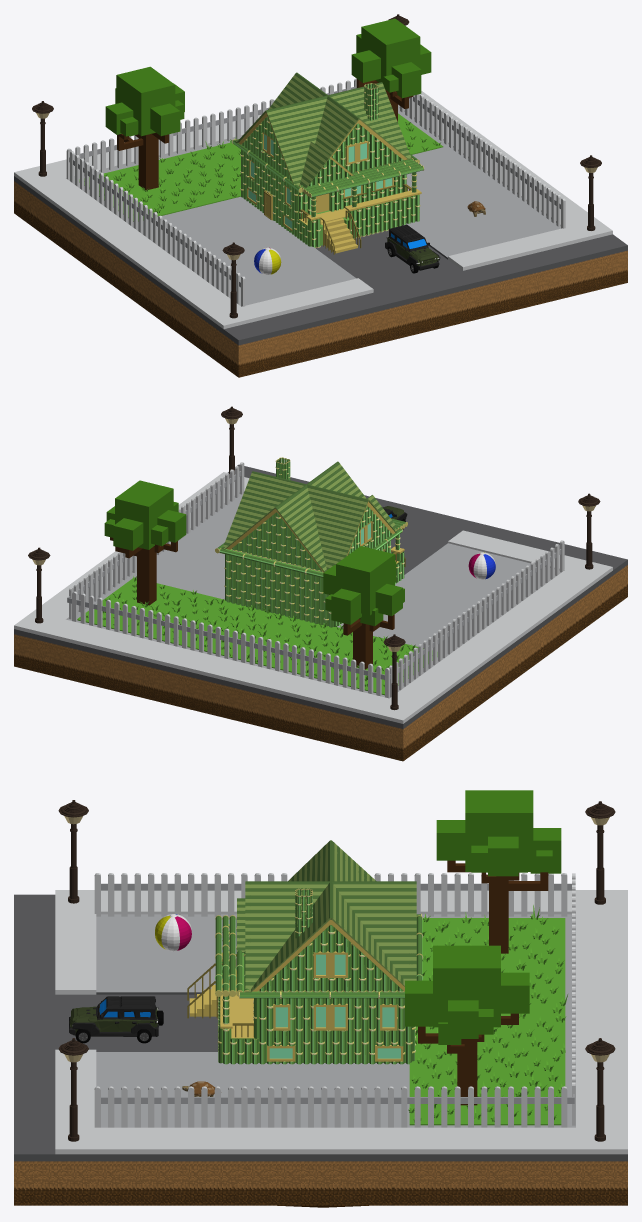
The picture shows the model from 3 angles, top to bottom: view 1: azimuth 30°, elevation 25°; view 2: azimuth 150°, elevation 25°; view 3: azimuth 270°, elevation 25°; orthographic projection. The views are drawn at different scales.
Parts seen in each view (by area): view 1: Cube.004, Cube.1327, VEHICLES_JEEP, OBJRANDOM_BEACHBALL; view 2: Cube.004, Cube.1327, OBJRANDOM_BEACHBALL; view 3: Cube.004, Cube.1327, VEHICLES_JEEP, OBJRANDOM_BEACHBALL.
Boxes of the visible parts, x1,y1,x2,y2 form: Cube.004: (14,14,627,377); Cube.1327: (232,72,424,254); VEHICLES_JEEP: (385,224,440,273); OBJRANDOM_BEACHBALL: (254,247,281,274); Cube.004: (14,406,627,761); Cube.1327: (215,457,407,627); OBJRANDOM_BEACHBALL: (468,552,495,579); Cube.004: (14,790,627,1205); Cube.1327: (187,840,423,1064); VEHICLES_JEEP: (69,996,163,1043); OBJRANDOM_BEACHBALL: (155,914,191,951).
Size of the model in its own units: 4000 by 1676 by 4000.
Materials: 35 (4 with a texture image).
